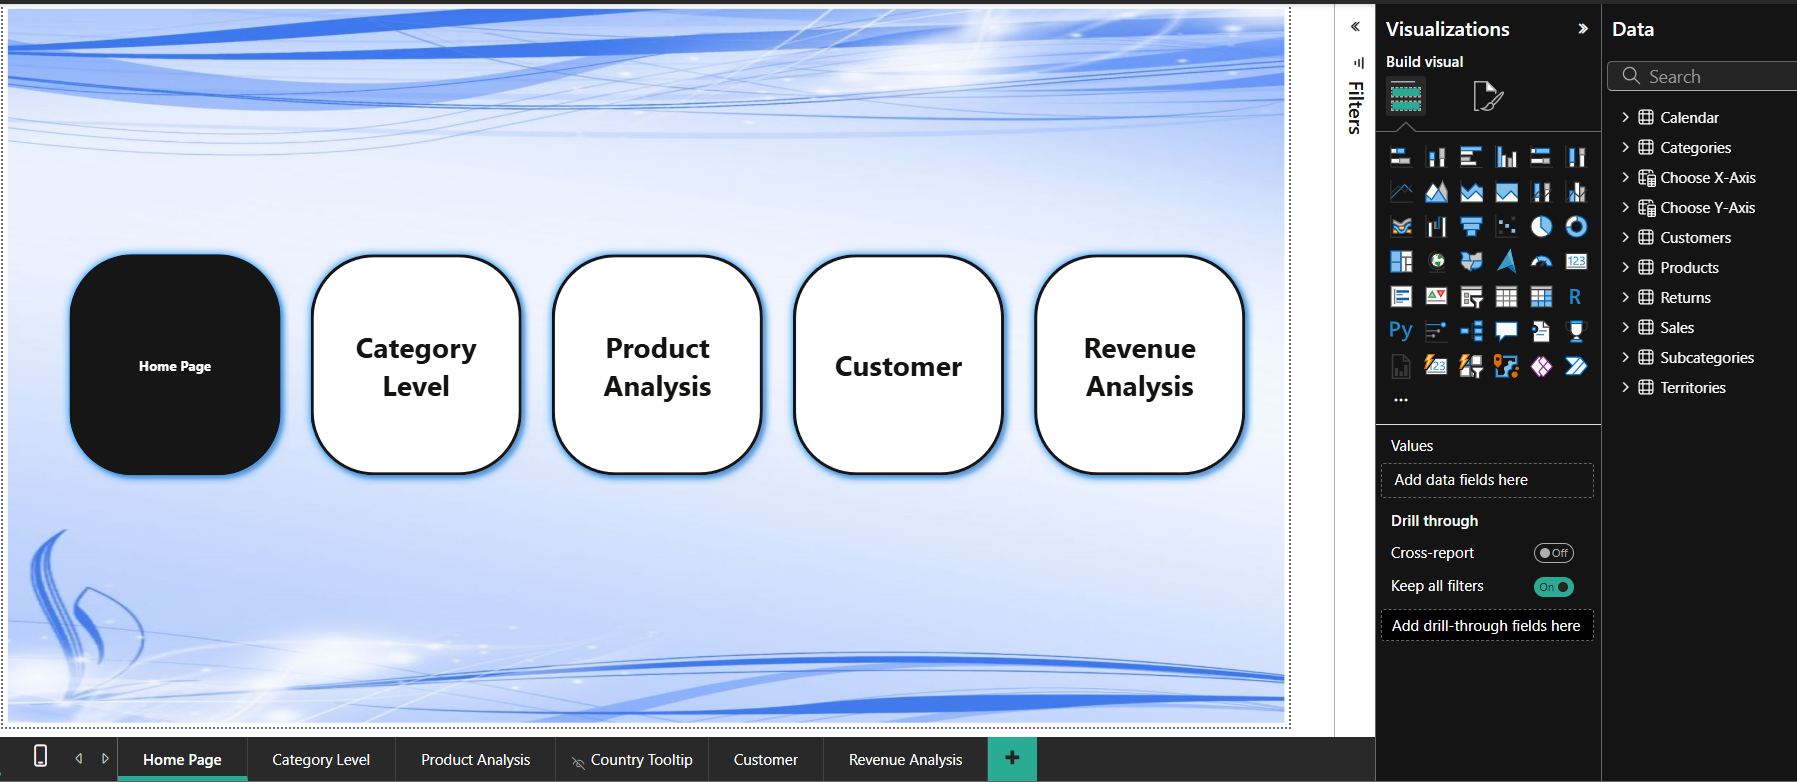

Layout of this report page (visuals, bound fields, positions):
{"tool":"powerbi","page":{"name":"Home Page","canvas":[1280,720],"ordinal":0},"visuals":[{"type":"image","box":[0,0,1280,720],"z":0},{"type":"pageNavigator","box":[57.1,240,1191.4,238.6],"z":1000}]}

Visuals, with their boxes on the page's 1280x720 design canvas (x1, y1, x2, y2). These are canvas units, not pixel positions in the 1797x782 screenshot, which may show the page scaled, cropped or inside an application window:
image: 0, 0, 1280, 720
pageNavigator: 57, 240, 1248, 479
